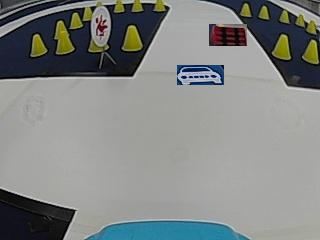cone: (122, 24, 142, 52), (272, 33, 292, 61), (55, 30, 73, 54), (302, 39, 318, 65), (29, 33, 46, 56), (68, 11, 82, 29), (54, 19, 66, 38), (239, 2, 252, 17), (258, 4, 270, 20), (279, 9, 289, 24), (131, 0, 143, 12), (307, 18, 316, 34), (153, 0, 165, 12), (113, 0, 124, 13), (82, 6, 91, 21), (295, 13, 304, 27)
tumble: (92, 7, 109, 42)
